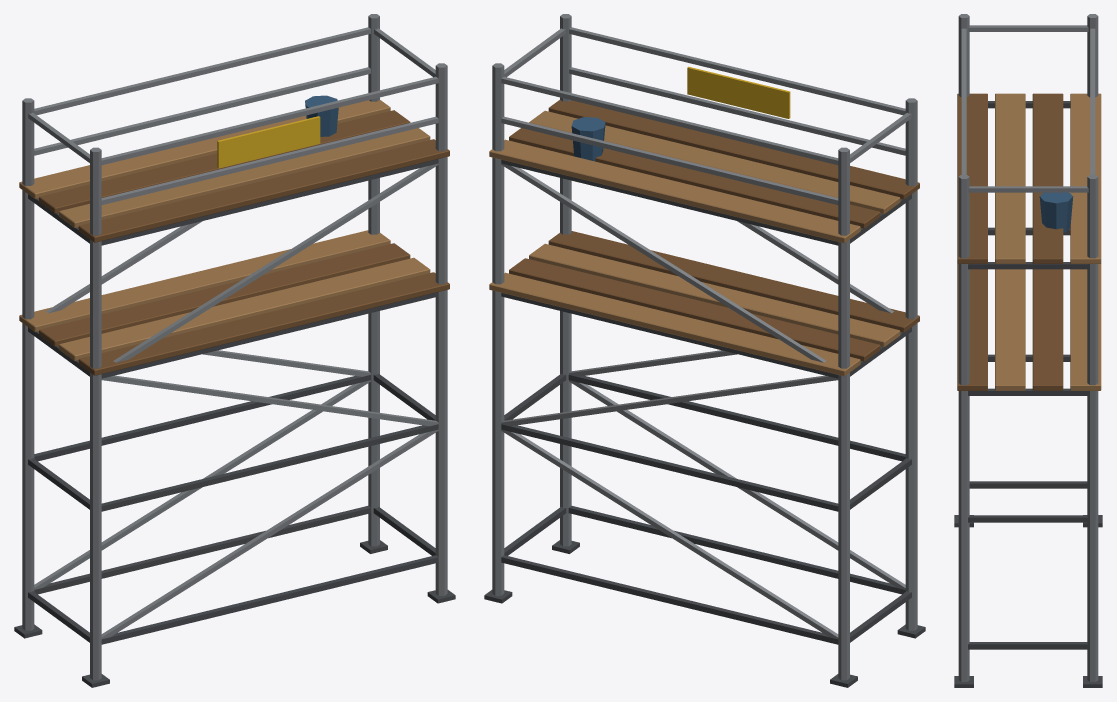
Rendered from scaffold.fbx.
3 renders of one model, left to right at view 1: azimuth 30°, elevation 25°; view 2: azimuth 150°, elevation 25°; view 3: azimuth 270°, elevation 25°, orthographic. The views are drawn at different scales.
Parts seen in each view (by area): view 1: scaffold; view 2: scaffold; view 3: scaffold.
Boxes of the visible parts, left/top/right/bottom form: scaffold: left=14, top=14, right=455, bottom=687; scaffold: left=484, top=14, right=925, bottom=687; scaffold: left=954, top=14, right=1102, bottom=687.
Bounding box in the file's own units: 2.86 × 4 × 1.06.
